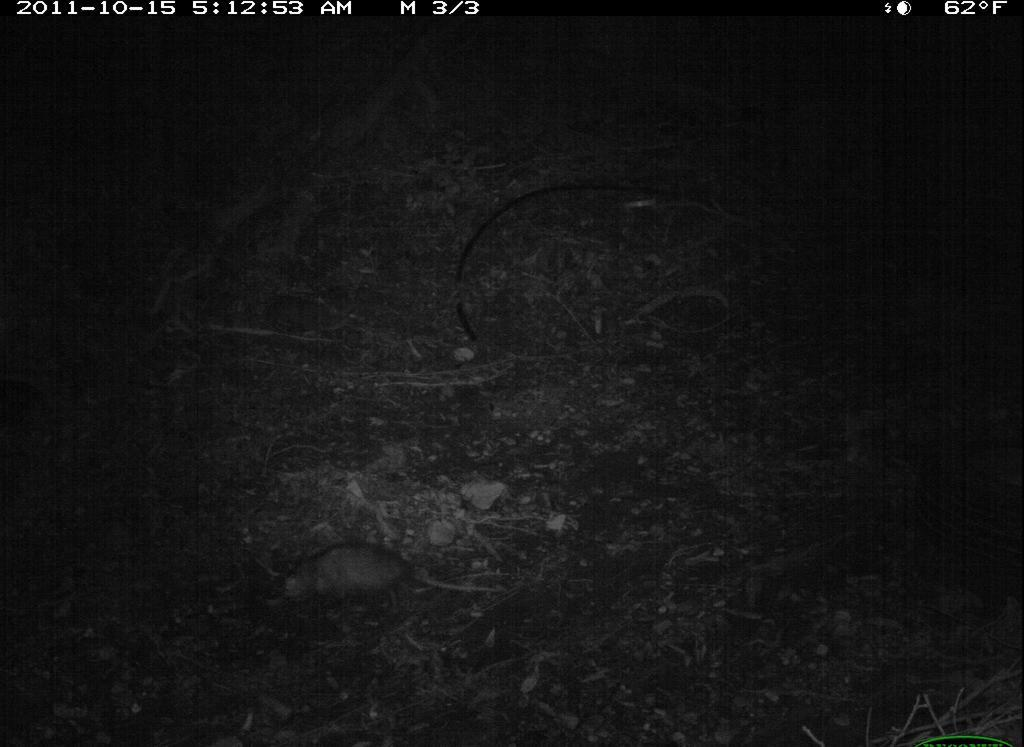opossum: (272, 538, 501, 620)
